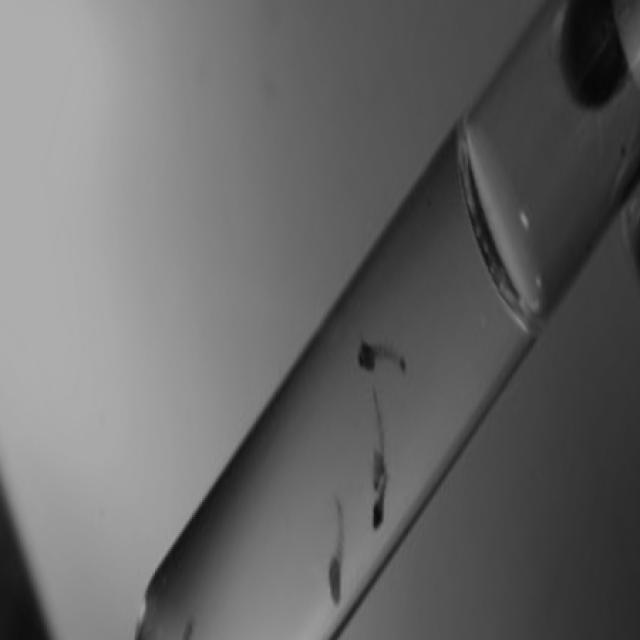larvas: (328, 494, 346, 601), (371, 467, 396, 522), (369, 392, 383, 484), (356, 344, 405, 370)
